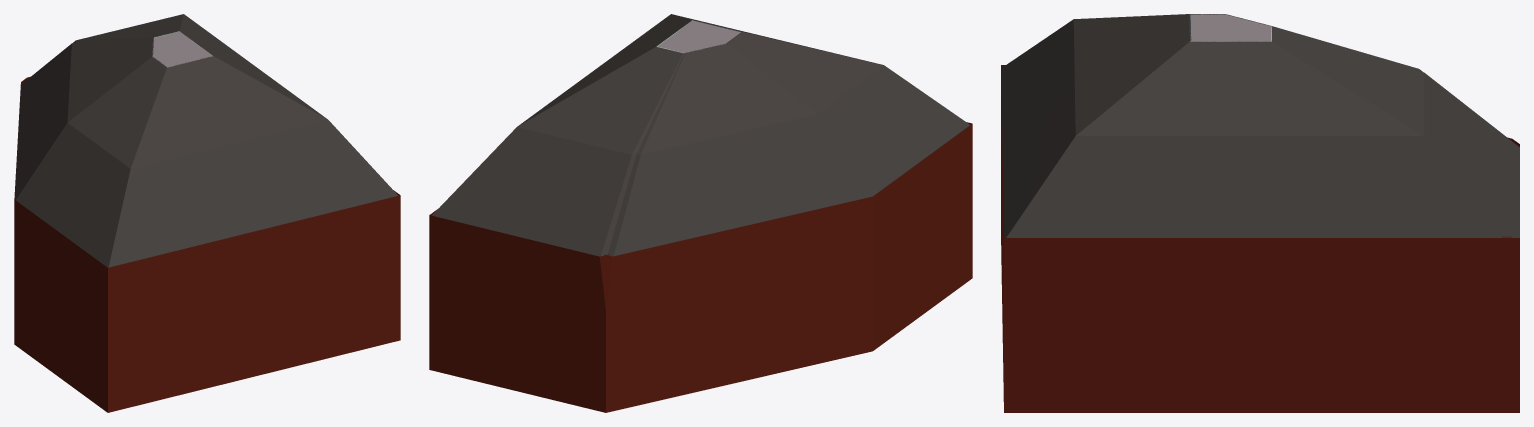
File: renkliSahne005.fbx
3 views of the same model, side by side, from view 1: azimuth 30°, elevation 25°; view 2: azimuth 150°, elevation 25°; view 3: azimuth 270°, elevation 25° (orthographic). The views are drawn at different scales.
Visible parts, largest first — view 1: Cati, Studyo; view 2: Studyo, Cati; view 3: Cati, Studyo.
Boxes of the visible parts, left/top/right/bottom form: Cati: left=14, top=14, right=398, bottom=267; Studyo: left=14, top=76, right=400, bottom=412; Studyo: left=429, top=122, right=972, bottom=412; Cati: left=432, top=14, right=969, bottom=256; Cati: left=1001, top=14, right=1519, bottom=237; Studyo: left=1001, top=65, right=1519, bottom=412.
Bounding box in the file's own units: 1885 × 1580 × 2390.
